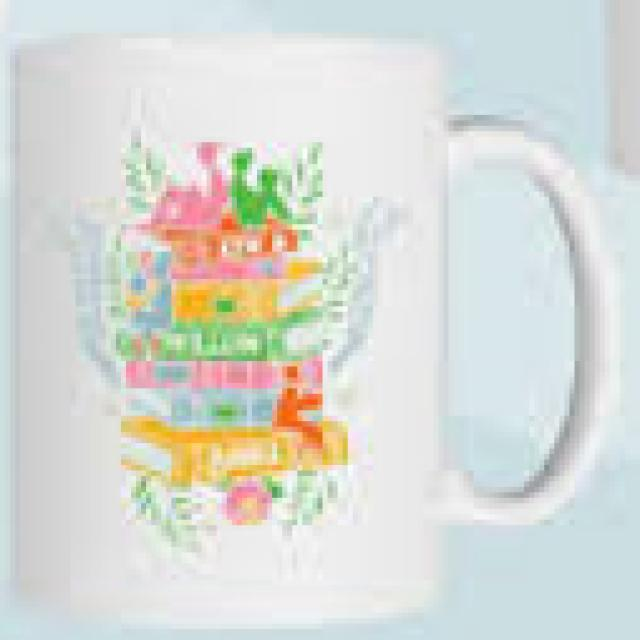taza: (15, 32, 618, 599)
